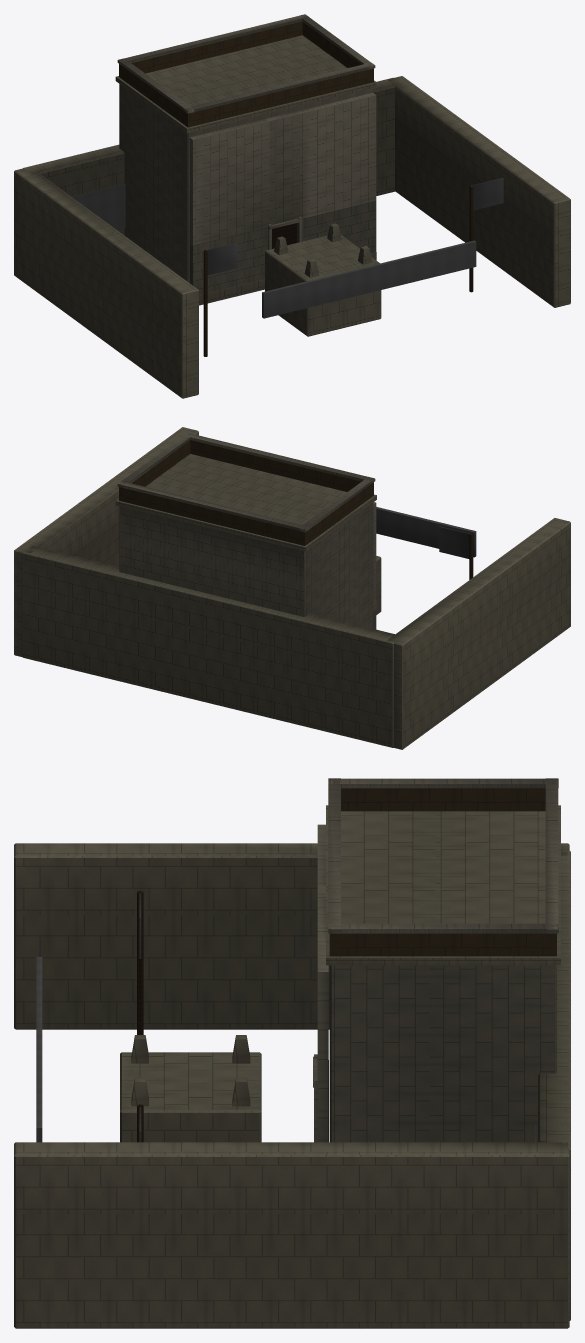
Rendered from shrine-israelite.glb.
3 renders of one model, top to bottom at view 1: azimuth 30°, elevation 25°; view 2: azimuth 150°, elevation 25°; view 3: azimuth 270°, elevation 25°, orthographic. The views are drawn at different scales.
Visible parts, largest first — view 1: LOD0; view 2: LOD0; view 3: LOD0.
Part boxes in pixels (left/top/right/bottom): LOD0: left=14, top=14, right=570, bottom=398; LOD0: left=14, top=427, right=570, bottom=749; LOD0: left=14, top=778, right=570, bottom=1328.
Size of what is drawn, in the model's own units: 1.46 by 0.697 by 1.1.
2 materials, 2 textured.
